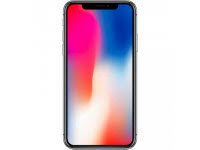iphone: (61, 1, 137, 149)
iphone10: (61, 1, 137, 149)
